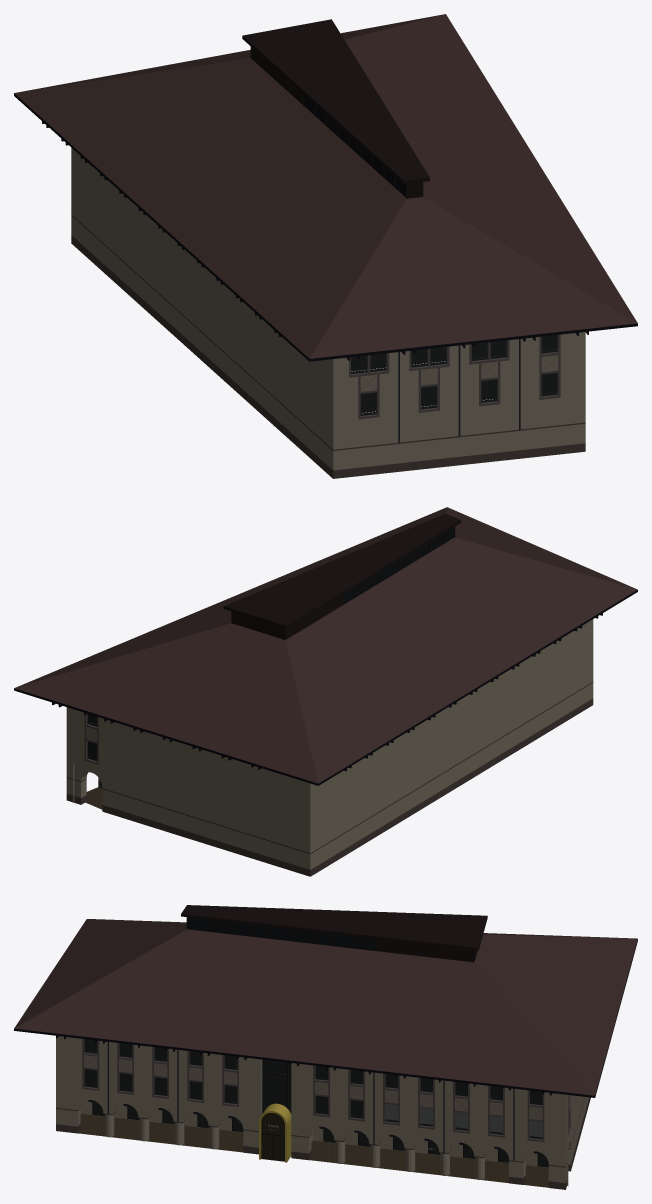
Rendered from edgar-a-smith-building-look.glb.
The picture shows the model from 3 angles, top to bottom: view 1: azimuth 30°, elevation 25°; view 2: azimuth 150°, elevation 25°; view 3: azimuth 270°, elevation 25°; orthographic projection. The views are drawn at different scales.
Visible parts, largest first — view 1: n_roof_tile, n_wall_limestone, n_roof_metal_dark, n_stone_granite_plinth, n_glass_window, n_stone_granite_frame, n_metal_dark, n_louvre_dark, n_metal_navy, n_stone_panel_x, n_monitor_bronze; view 2: n_roof_tile, n_wall_limestone, n_roof_metal_dark, n_stone_granite_plinth, n_metal_dark, n_monitor_bronze, n_louvre_dark; view 3: n_roof_tile, n_wall_limestone, n_roof_metal_dark, n_paving_stone, n_glass_window, n_stone_granite_frame, n_metal_dark, n_louvre_dark, n_stone_panel_x, n_metal_navy, n_glass_storefront, n_monitor_bronze (+4 smaller).
Part boxes in pixels (x1,y1,x2,y2): n_roof_tile: (14,14,637,358); n_wall_limestone: (71,148,585,470); n_roof_metal_dark: (242,19,429,183); n_stone_granite_plinth: (71,214,585,478); n_glass_window: (351,335,557,413); n_stone_granite_frame: (349,334,560,419); n_metal_dark: (14,93,637,361); n_louvre_dark: (304,94,406,197); n_metal_navy: (351,339,557,442); n_stone_panel_x: (360,355,558,391); n_monitor_bronze: (250,46,423,198); n_roof_tile: (14,507,637,783); n_wall_limestone: (66,619,593,869); n_roof_metal_dark: (223,513,460,628); n_stone_granite_plinth: (66,682,593,876); n_metal_dark: (14,590,637,785); n_monitor_bronze: (231,526,455,639); n_louvre_dark: (343,527,454,604); n_roof_tile: (14,919,637,1095); n_wall_limestone: (56,1036,588,1185); n_roof_metal_dark: (181,905,487,950); n_paving_stone: (78,1113,548,1187); n_glass_window: (84,1039,542,1116); n_stone_granite_frame: (82,1038,570,1142); n_metal_dark: (14,939,637,1167); n_louvre_dark: (187,917,376,950); n_stone_panel_x: (84,1055,570,1120); n_metal_navy: (84,1041,542,1160); n_glass_storefront: (93,1101,548,1166); n_monitor_bronze: (186,917,477,962).
Size of the model in its own units: 42.7 by 21.07 by 63.62.
